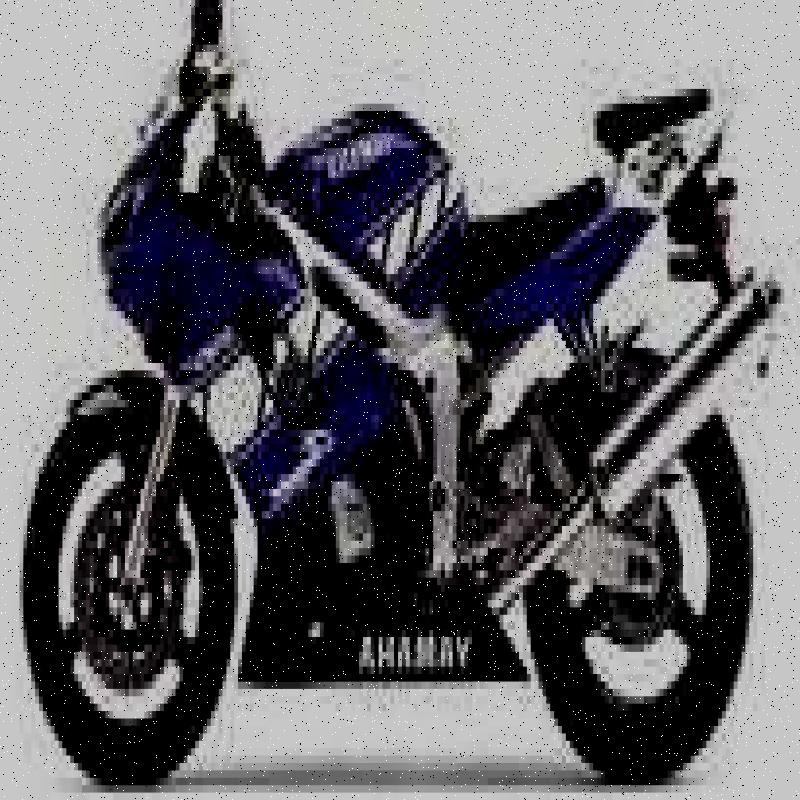bike: (10, 24, 776, 800)
